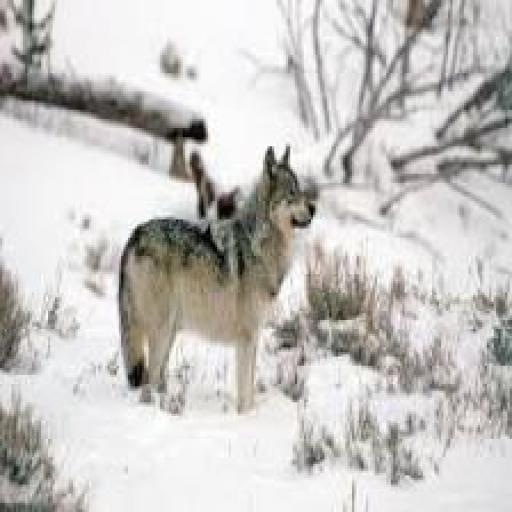wolf: (112, 126, 326, 436)
